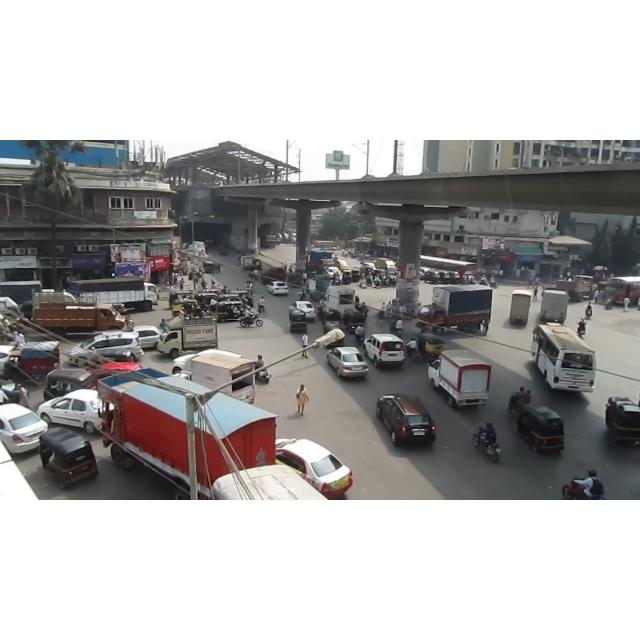auto: (36, 426, 100, 482), (518, 404, 571, 460), (603, 397, 640, 454), (46, 371, 94, 397), (419, 336, 447, 360), (288, 312, 312, 333), (203, 259, 219, 278)
car: (275, 439, 353, 499), (376, 394, 436, 446), (37, 389, 103, 433), (68, 331, 144, 367), (0, 404, 48, 454), (171, 349, 242, 375), (363, 333, 405, 367), (327, 346, 369, 378), (133, 325, 163, 349), (289, 301, 317, 321), (0, 345, 14, 369), (264, 281, 288, 295), (324, 266, 342, 278)
truck: (97, 368, 277, 500), (416, 285, 492, 335), (428, 350, 492, 408), (32, 303, 128, 337), (191, 353, 256, 403), (156, 314, 218, 358), (539, 288, 569, 324), (555, 275, 593, 303), (0, 281, 42, 305), (35, 286, 87, 304), (324, 286, 356, 314), (509, 289, 531, 325), (375, 258, 397, 274), (310, 248, 334, 262), (260, 235, 280, 249)
